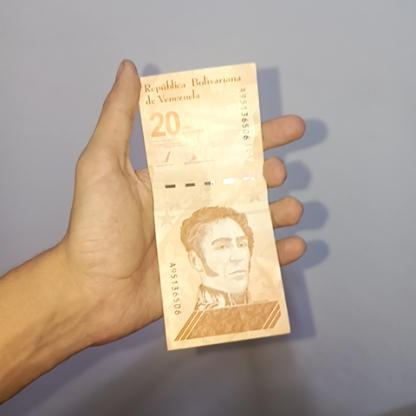twenty-front-vef: (137, 62, 288, 354)
